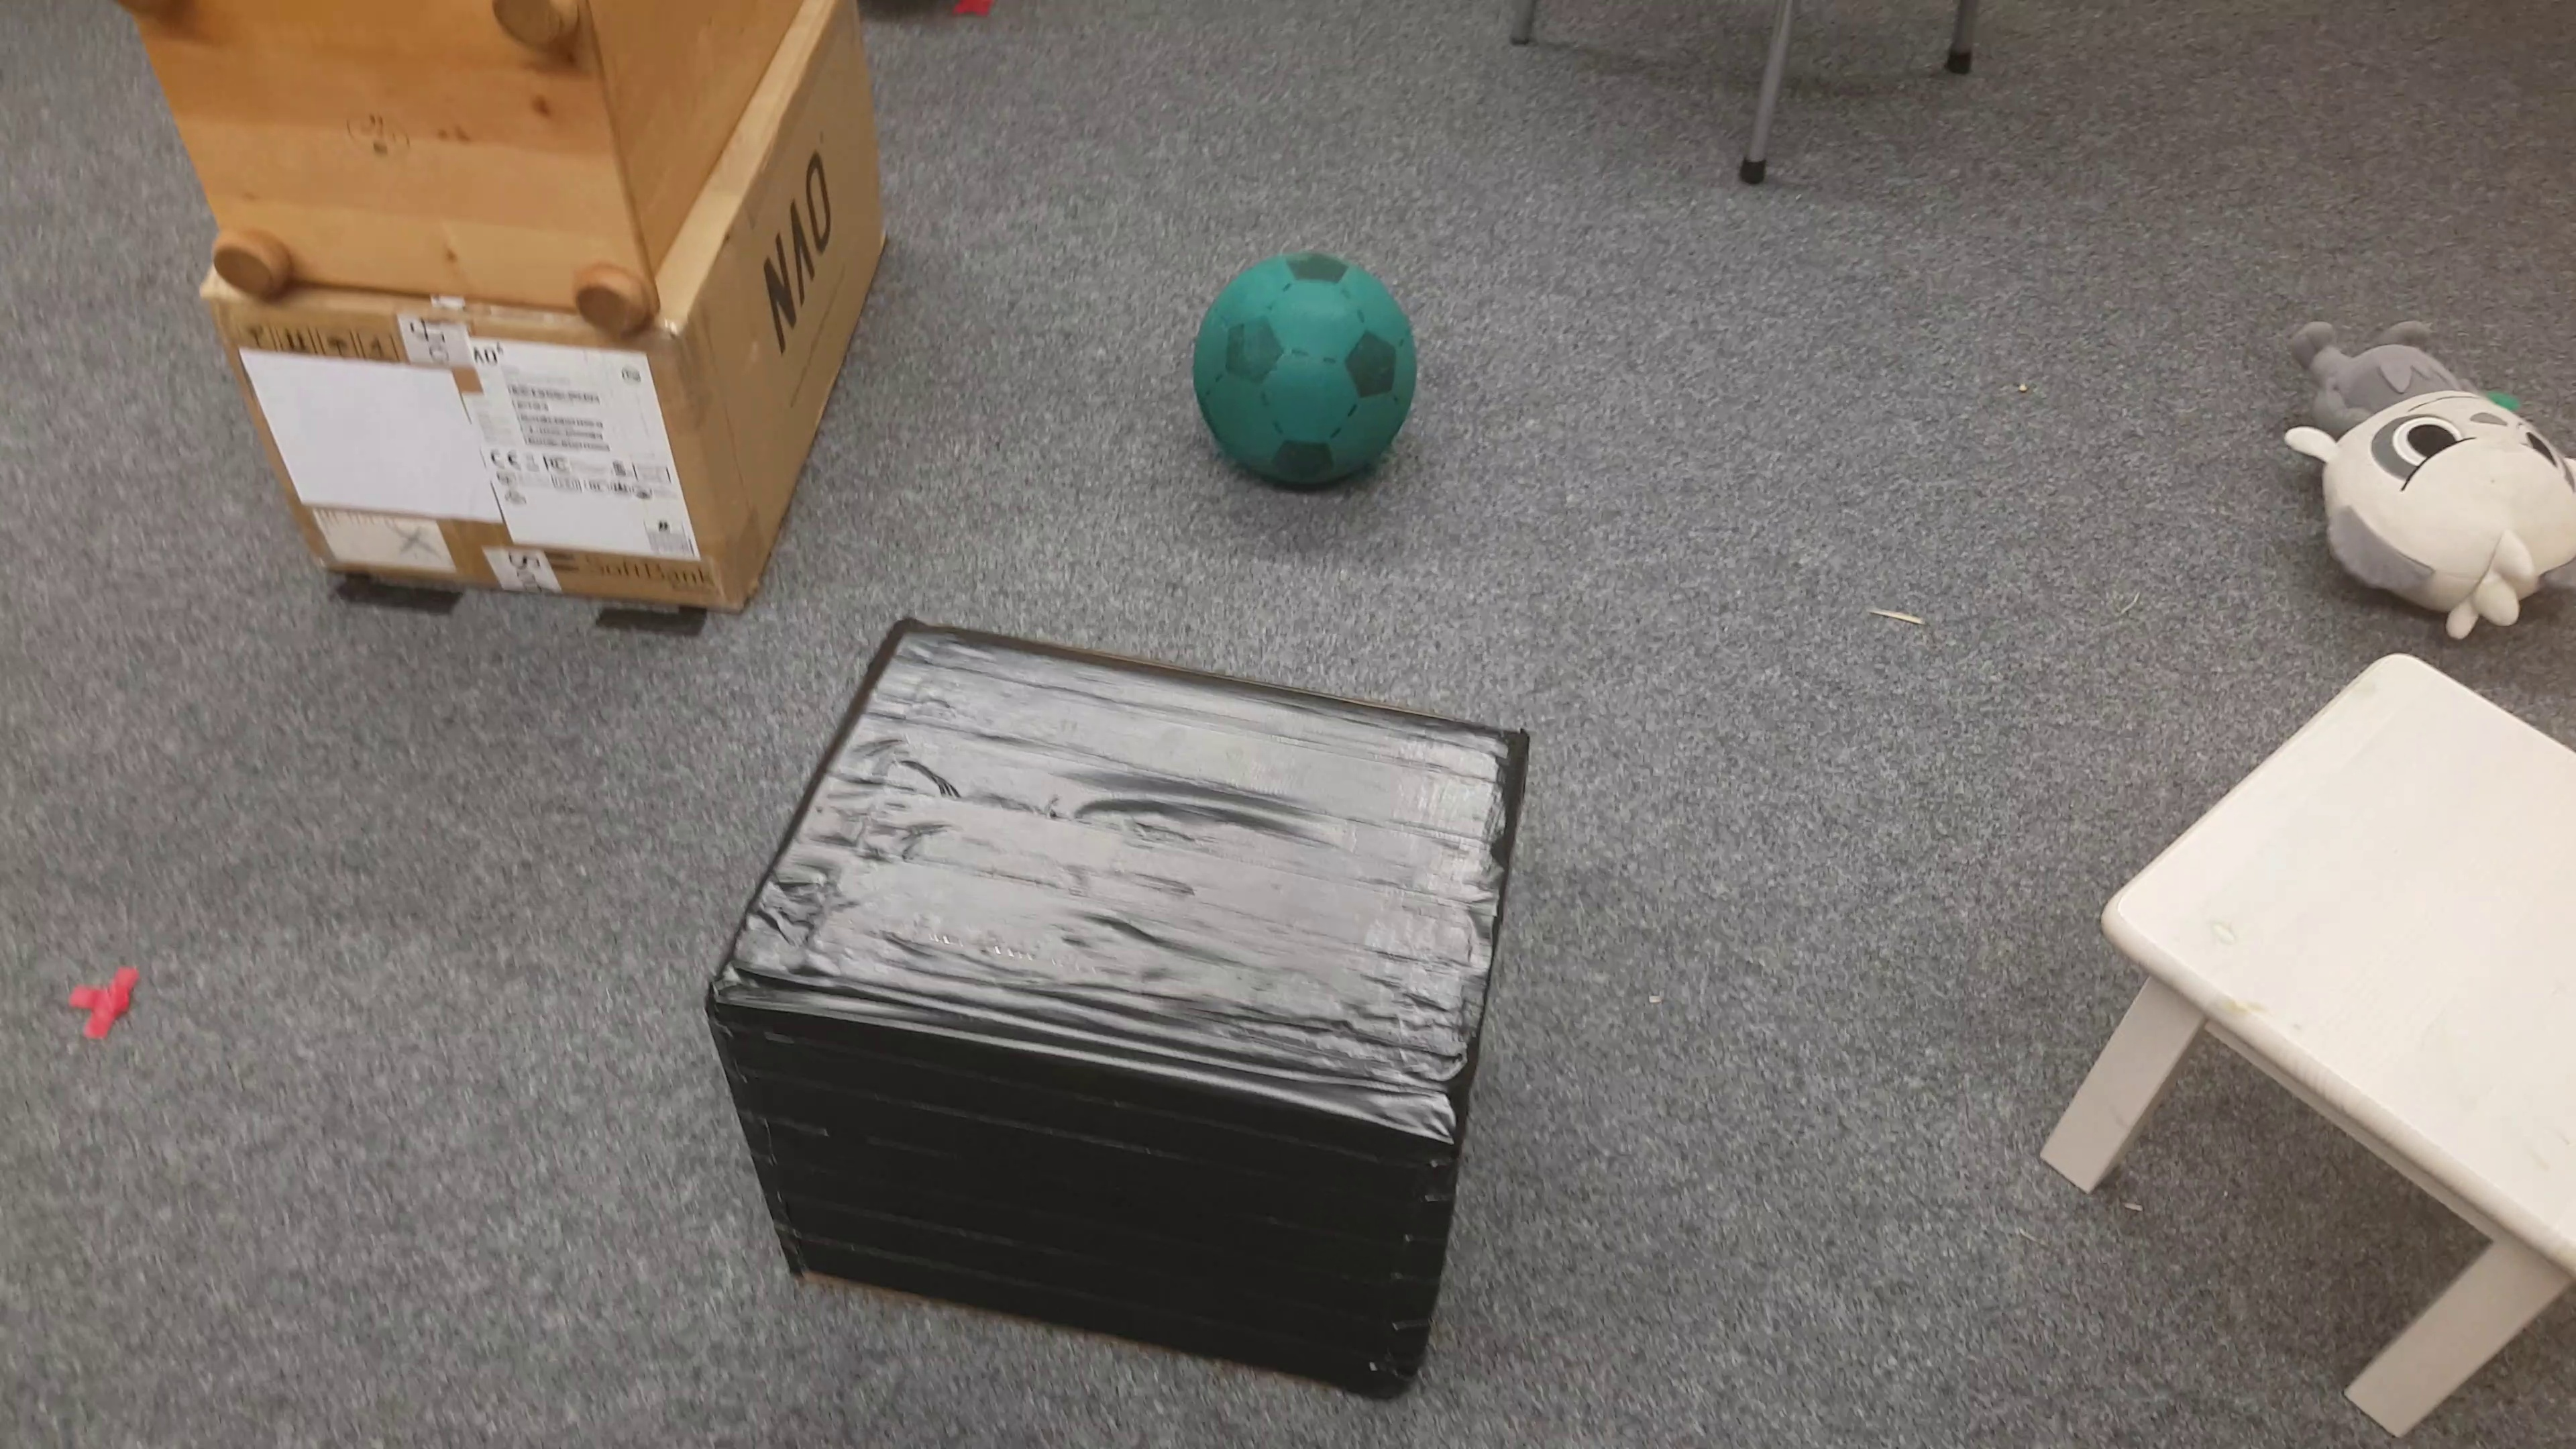grasp: (2279, 306, 2576, 639)
kick: (1192, 249, 1414, 494)
push: (709, 617, 1527, 1405)
